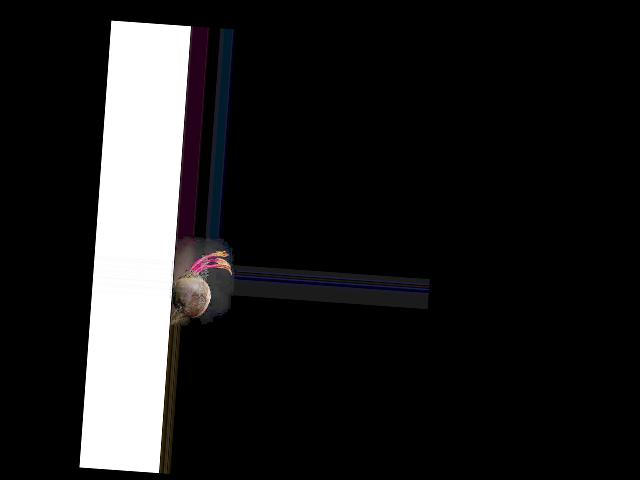beet: (169, 247, 233, 330)
